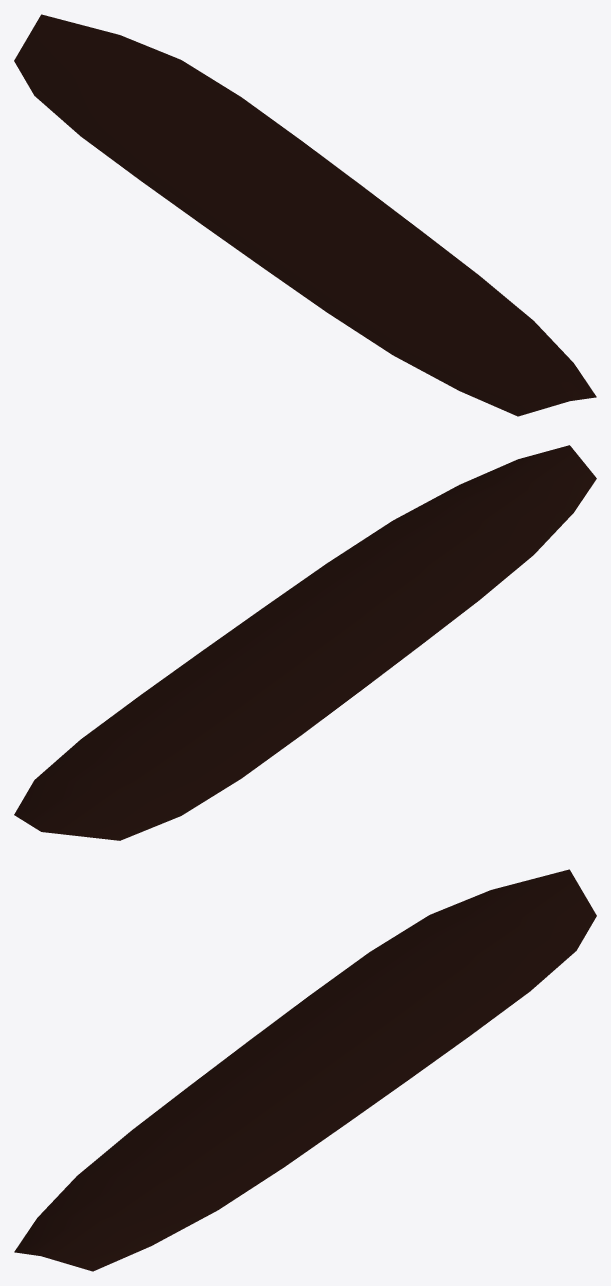
Rendered from finch_feather_tail_primary_006.obj.
3 views of the same model, one above another, from view 1: azimuth 30°, elevation 25°; view 2: azimuth 150°, elevation 25°; view 3: azimuth 330°, elevation 25° (orthographic).
Visible parts, largest first — view 1: feather_tail_primary_006; view 2: feather_tail_primary_006; view 3: feather_tail_primary_006.
Boxes of the visible parts, left/top/right/bottom form: feather_tail_primary_006: left=14, top=14, right=596, bottom=416; feather_tail_primary_006: left=14, top=445, right=596, bottom=840; feather_tail_primary_006: left=14, top=869, right=596, bottom=1271.
Bounding box in the file's own units: 0.00894 × 0.000779 × 0.0506.
